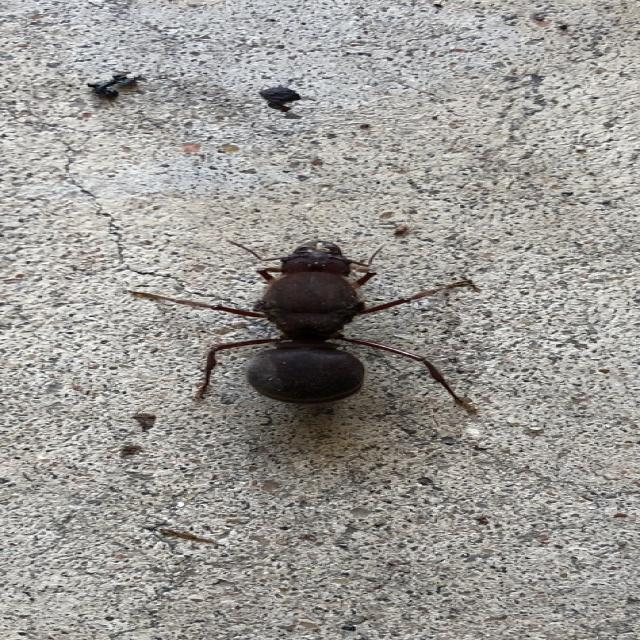Alive-Female-Dealate: (124, 239, 478, 417)
